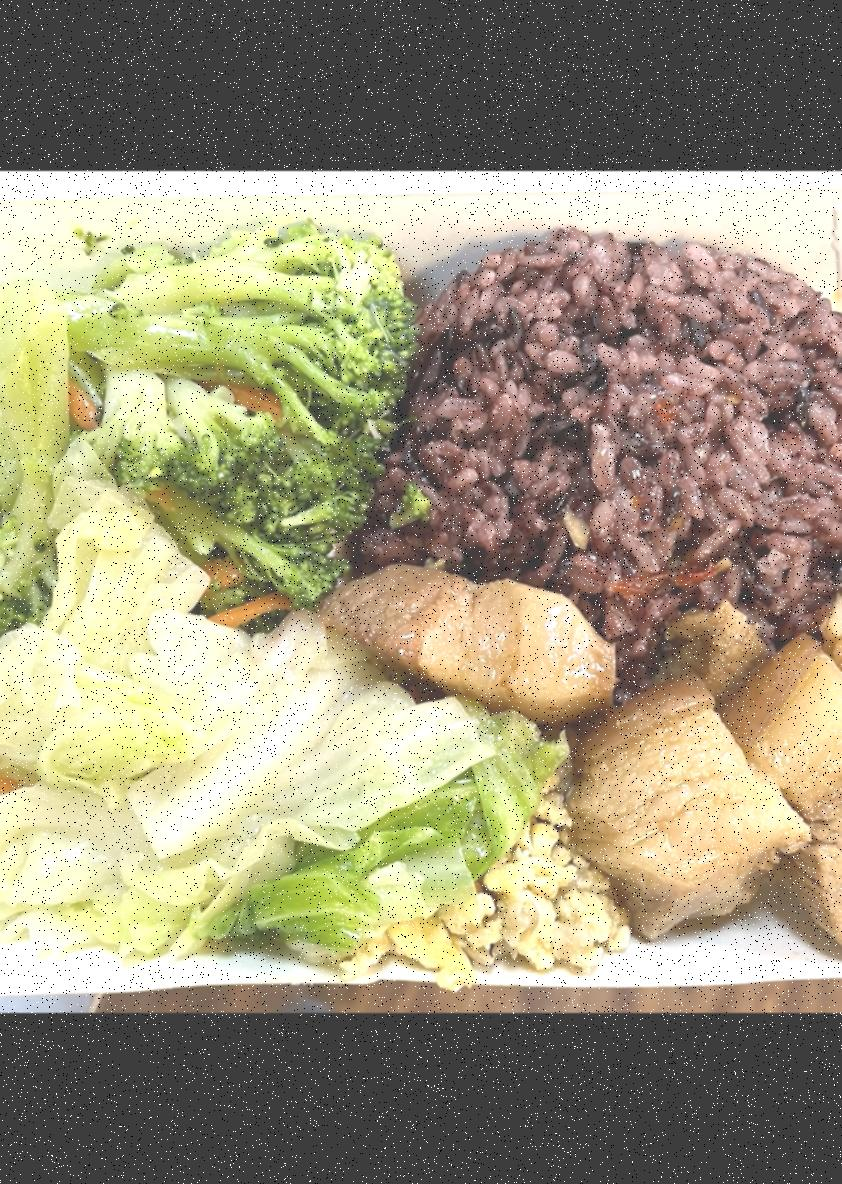box: (0, 171, 842, 1013)
braised pork: (322, 564, 842, 951)
purple rice: (372, 235, 842, 651)
side dish: (0, 543, 585, 957), (0, 214, 417, 651), (352, 779, 630, 978)
